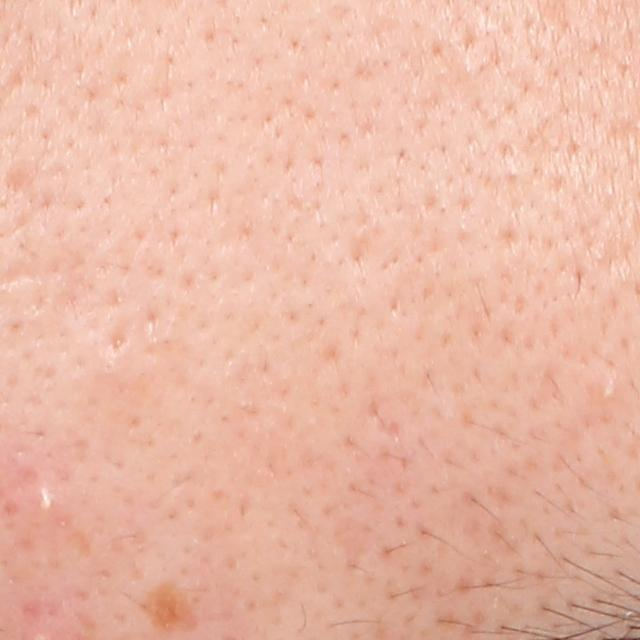atrophic_scar: (99, 314, 132, 360)
comedo: (595, 379, 624, 404)
pustule: (24, 484, 64, 518)
